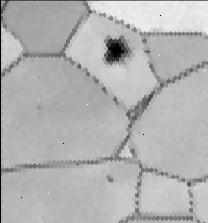good_void: (101, 35, 132, 65), (103, 175, 114, 184)
